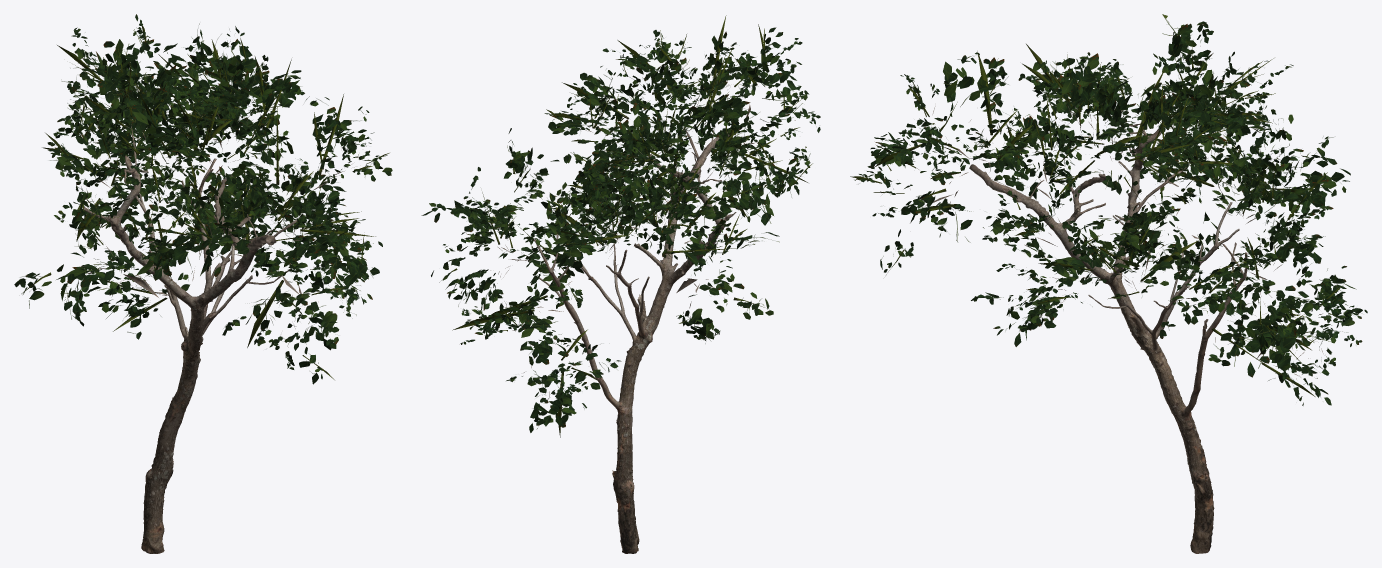
Rendered from small_tree.glb.
The picture shows the model from 3 angles, left to right: view 1: azimuth 30°, elevation 25°; view 2: azimuth 150°, elevation 25°; view 3: azimuth 270°, elevation 25°; orthographic projection. The views are drawn at different scales.
Visible parts, largest first — view 1: tree_small_02_LOD1; view 2: tree_small_02_LOD1; view 3: tree_small_02_LOD1.
Part boxes in pixels (box(x1,y1,x2,y2)): tree_small_02_LOD1: box(14, 14, 392, 553); tree_small_02_LOD1: box(421, 15, 820, 553); tree_small_02_LOD1: box(850, 14, 1367, 553).
Size of the model in its own units: 2.98 by 4.61 by 4.31.
Materials: 3 (3 with a texture image).
